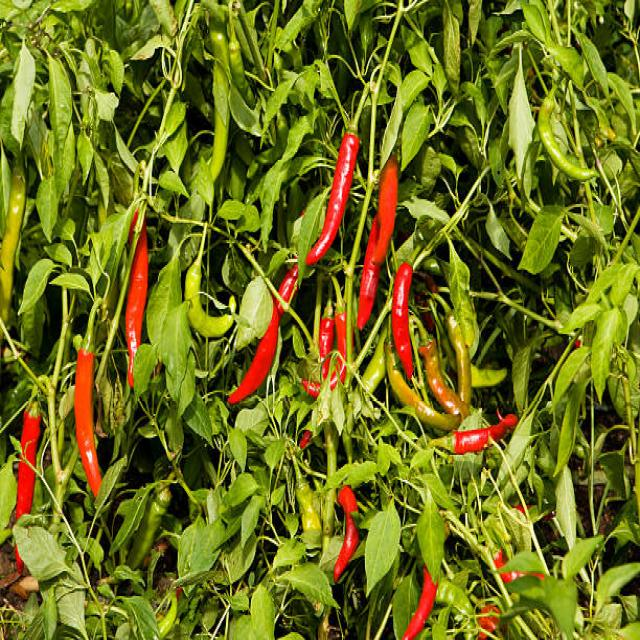Half-Ripe: (384, 343, 461, 430), (419, 339, 470, 419), (448, 315, 470, 404)
Ripe: (358, 156, 398, 329), (306, 135, 359, 265), (229, 298, 284, 404), (125, 221, 149, 387), (74, 349, 101, 496), (302, 317, 347, 398), (452, 411, 518, 454), (402, 566, 438, 640), (334, 486, 359, 582), (392, 262, 412, 378), (19, 413, 39, 518), (279, 264, 297, 301), (319, 319, 335, 360), (534, 574, 545, 578)
Unripe: (185, 223, 236, 338), (539, 90, 598, 181), (128, 486, 171, 569), (362, 326, 387, 391), (441, 330, 455, 370)
